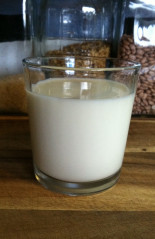glass of milk: (33, 65, 122, 185)
